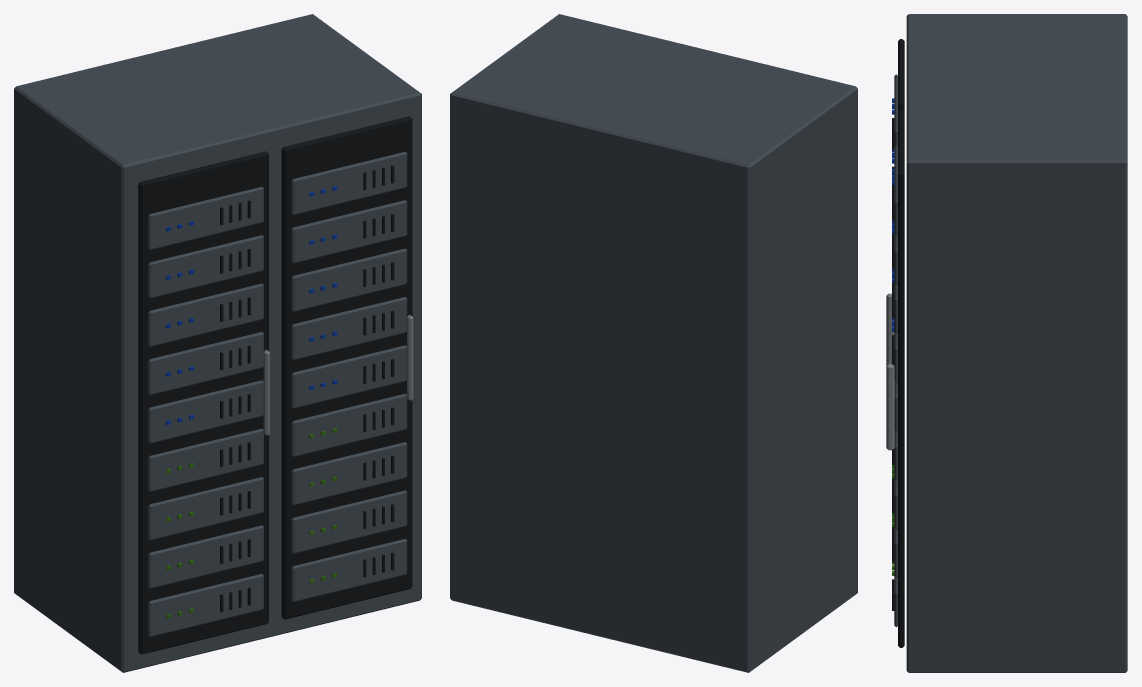
File: ServerRackTwin.fbx
3 renders of one model, left to right at view 1: azimuth 30°, elevation 25°; view 2: azimuth 150°, elevation 25°; view 3: azimuth 270°, elevation 25°, orthographic.
Parts seen in each view (by area): view 1: ServerRackTwin; view 2: ServerRackTwin; view 3: ServerRackTwin.
Boxes of the visible parts, left/top/right/bottom form: ServerRackTwin: left=14, top=14, right=421, bottom=672; ServerRackTwin: left=450, top=14, right=857, bottom=672; ServerRackTwin: left=886, top=14, right=1127, bottom=672.
Bounding box in the file's own units: 130 × 210 × 89.5.
Materials: 1 (1 with a texture image).
